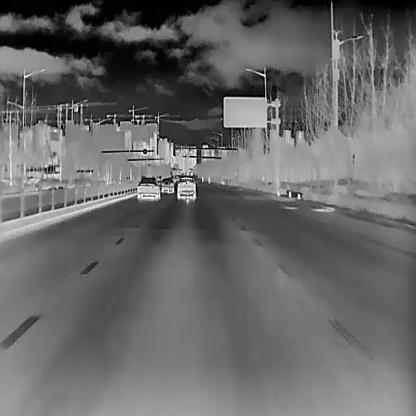car: (136, 174, 159, 199), (176, 176, 195, 199), (159, 177, 174, 193)
